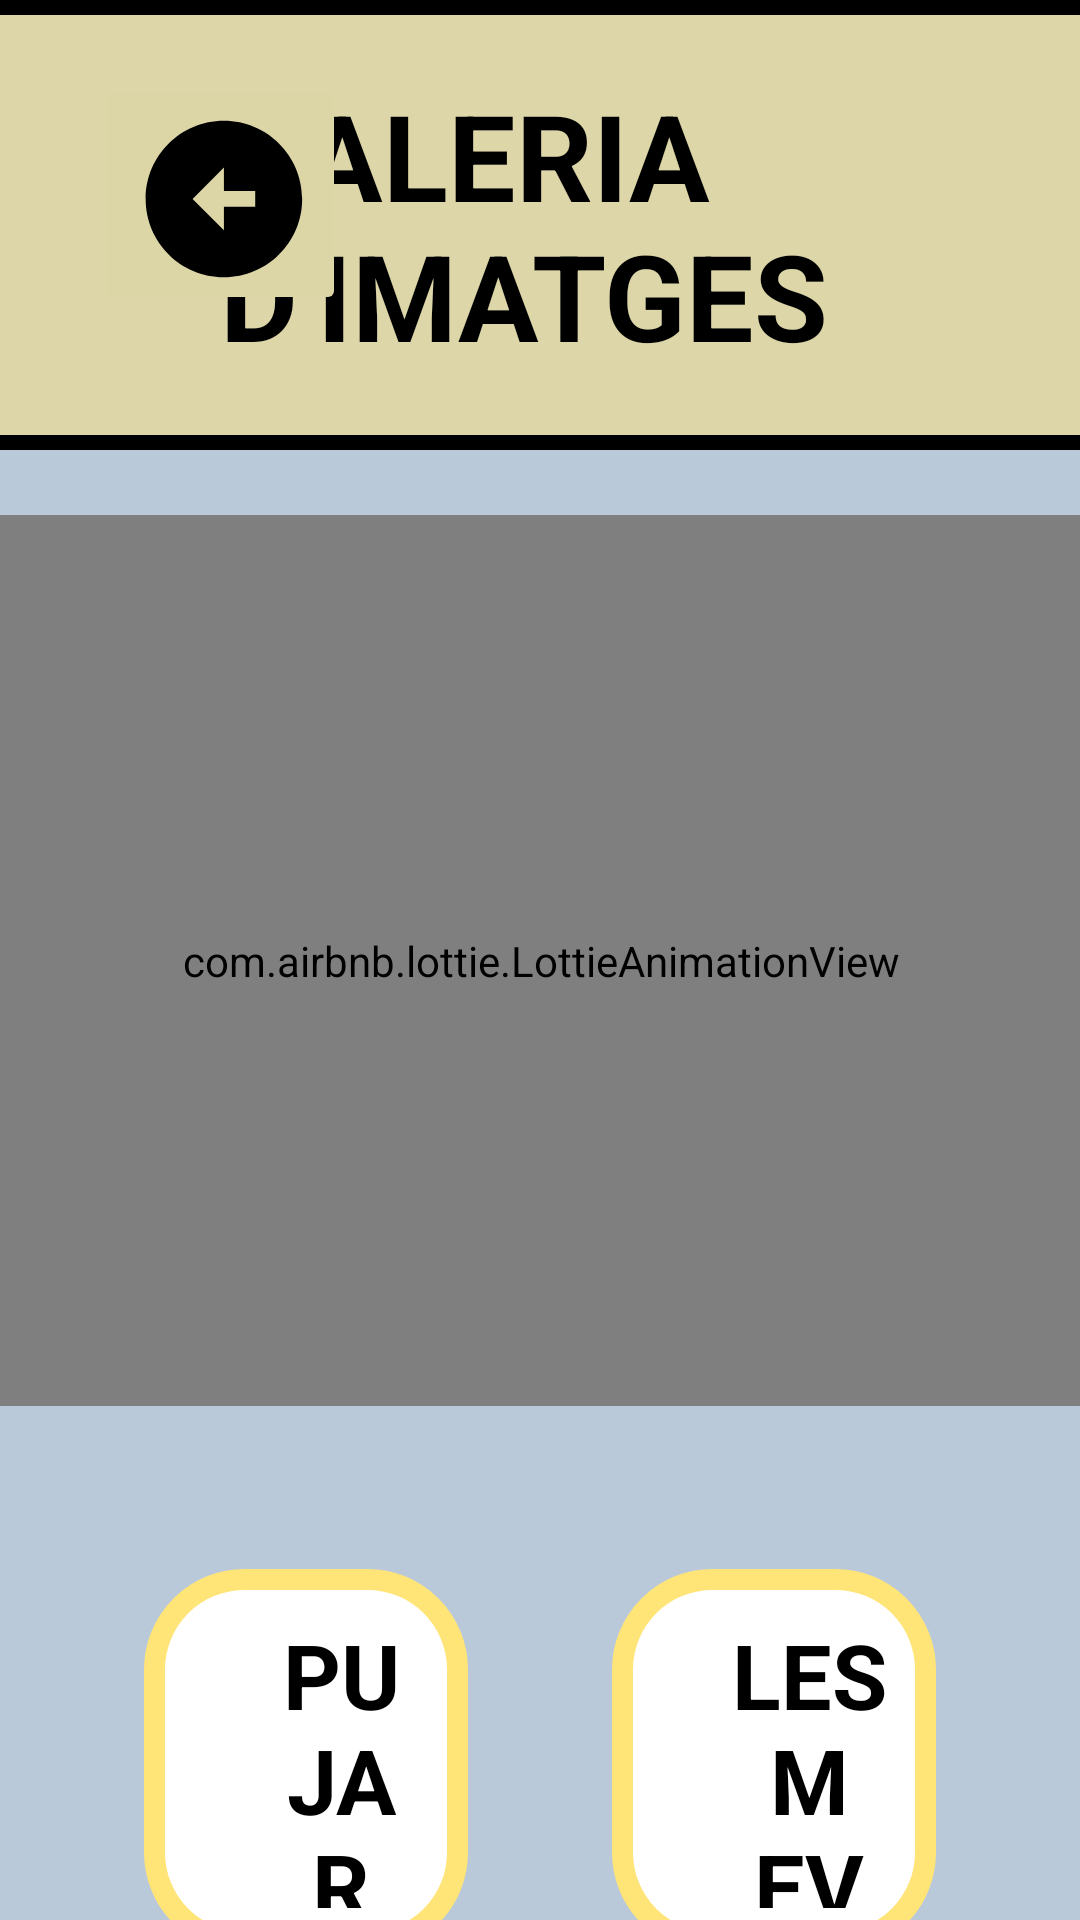

Icons on this 1080*1920 Android screen, each with the point to tap as (x=x, y=y):
arrow circle left: (x=224, y=199)
